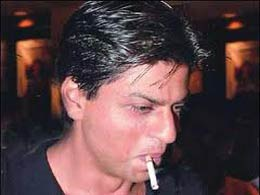ci: (143, 154, 159, 189)
